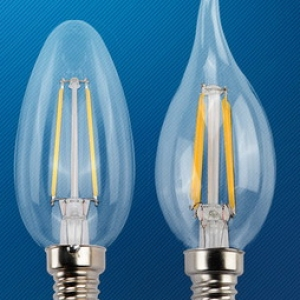Light_bulb: (150, 2, 277, 300), (11, 11, 136, 300)
